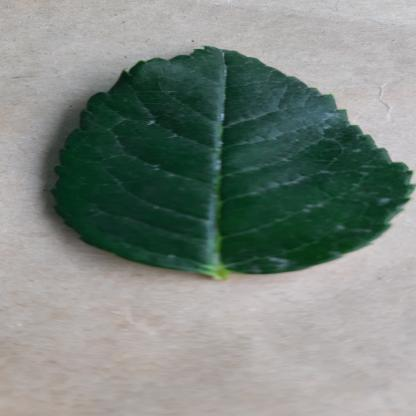normal: (48, 46, 411, 278)
